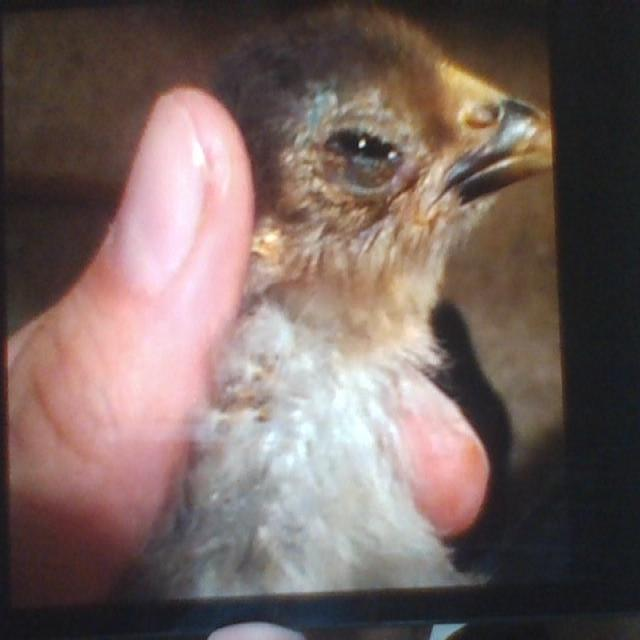Sick: (180, 0, 555, 586)
